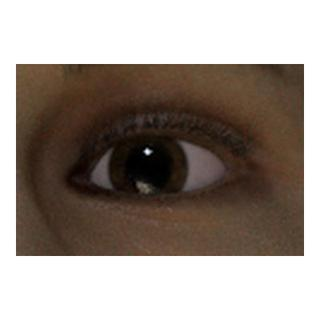pupil: (125, 146, 169, 190)
